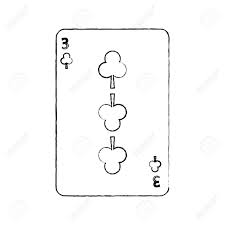three of clubs: (58, 30, 169, 197)
